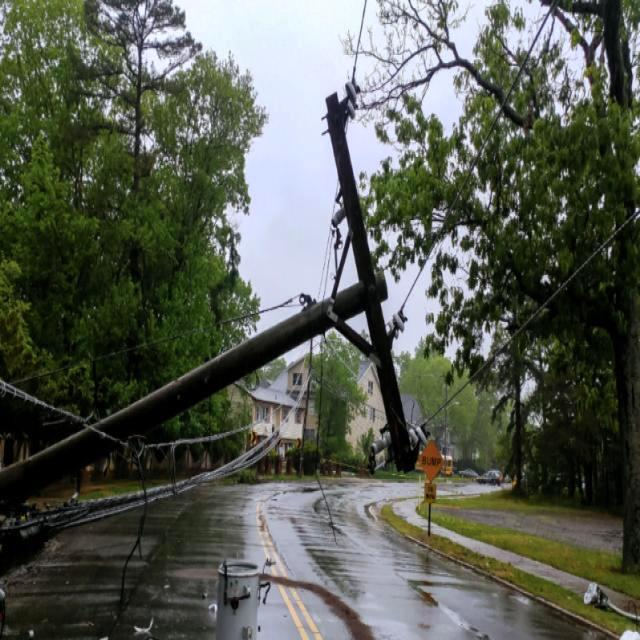Broken Pole: (0, 79, 441, 521)
